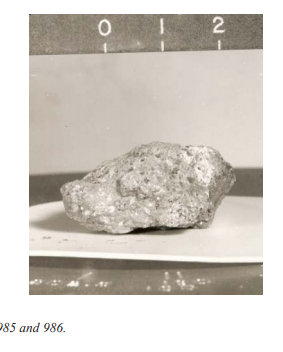Breccia: (53, 130, 242, 231)
